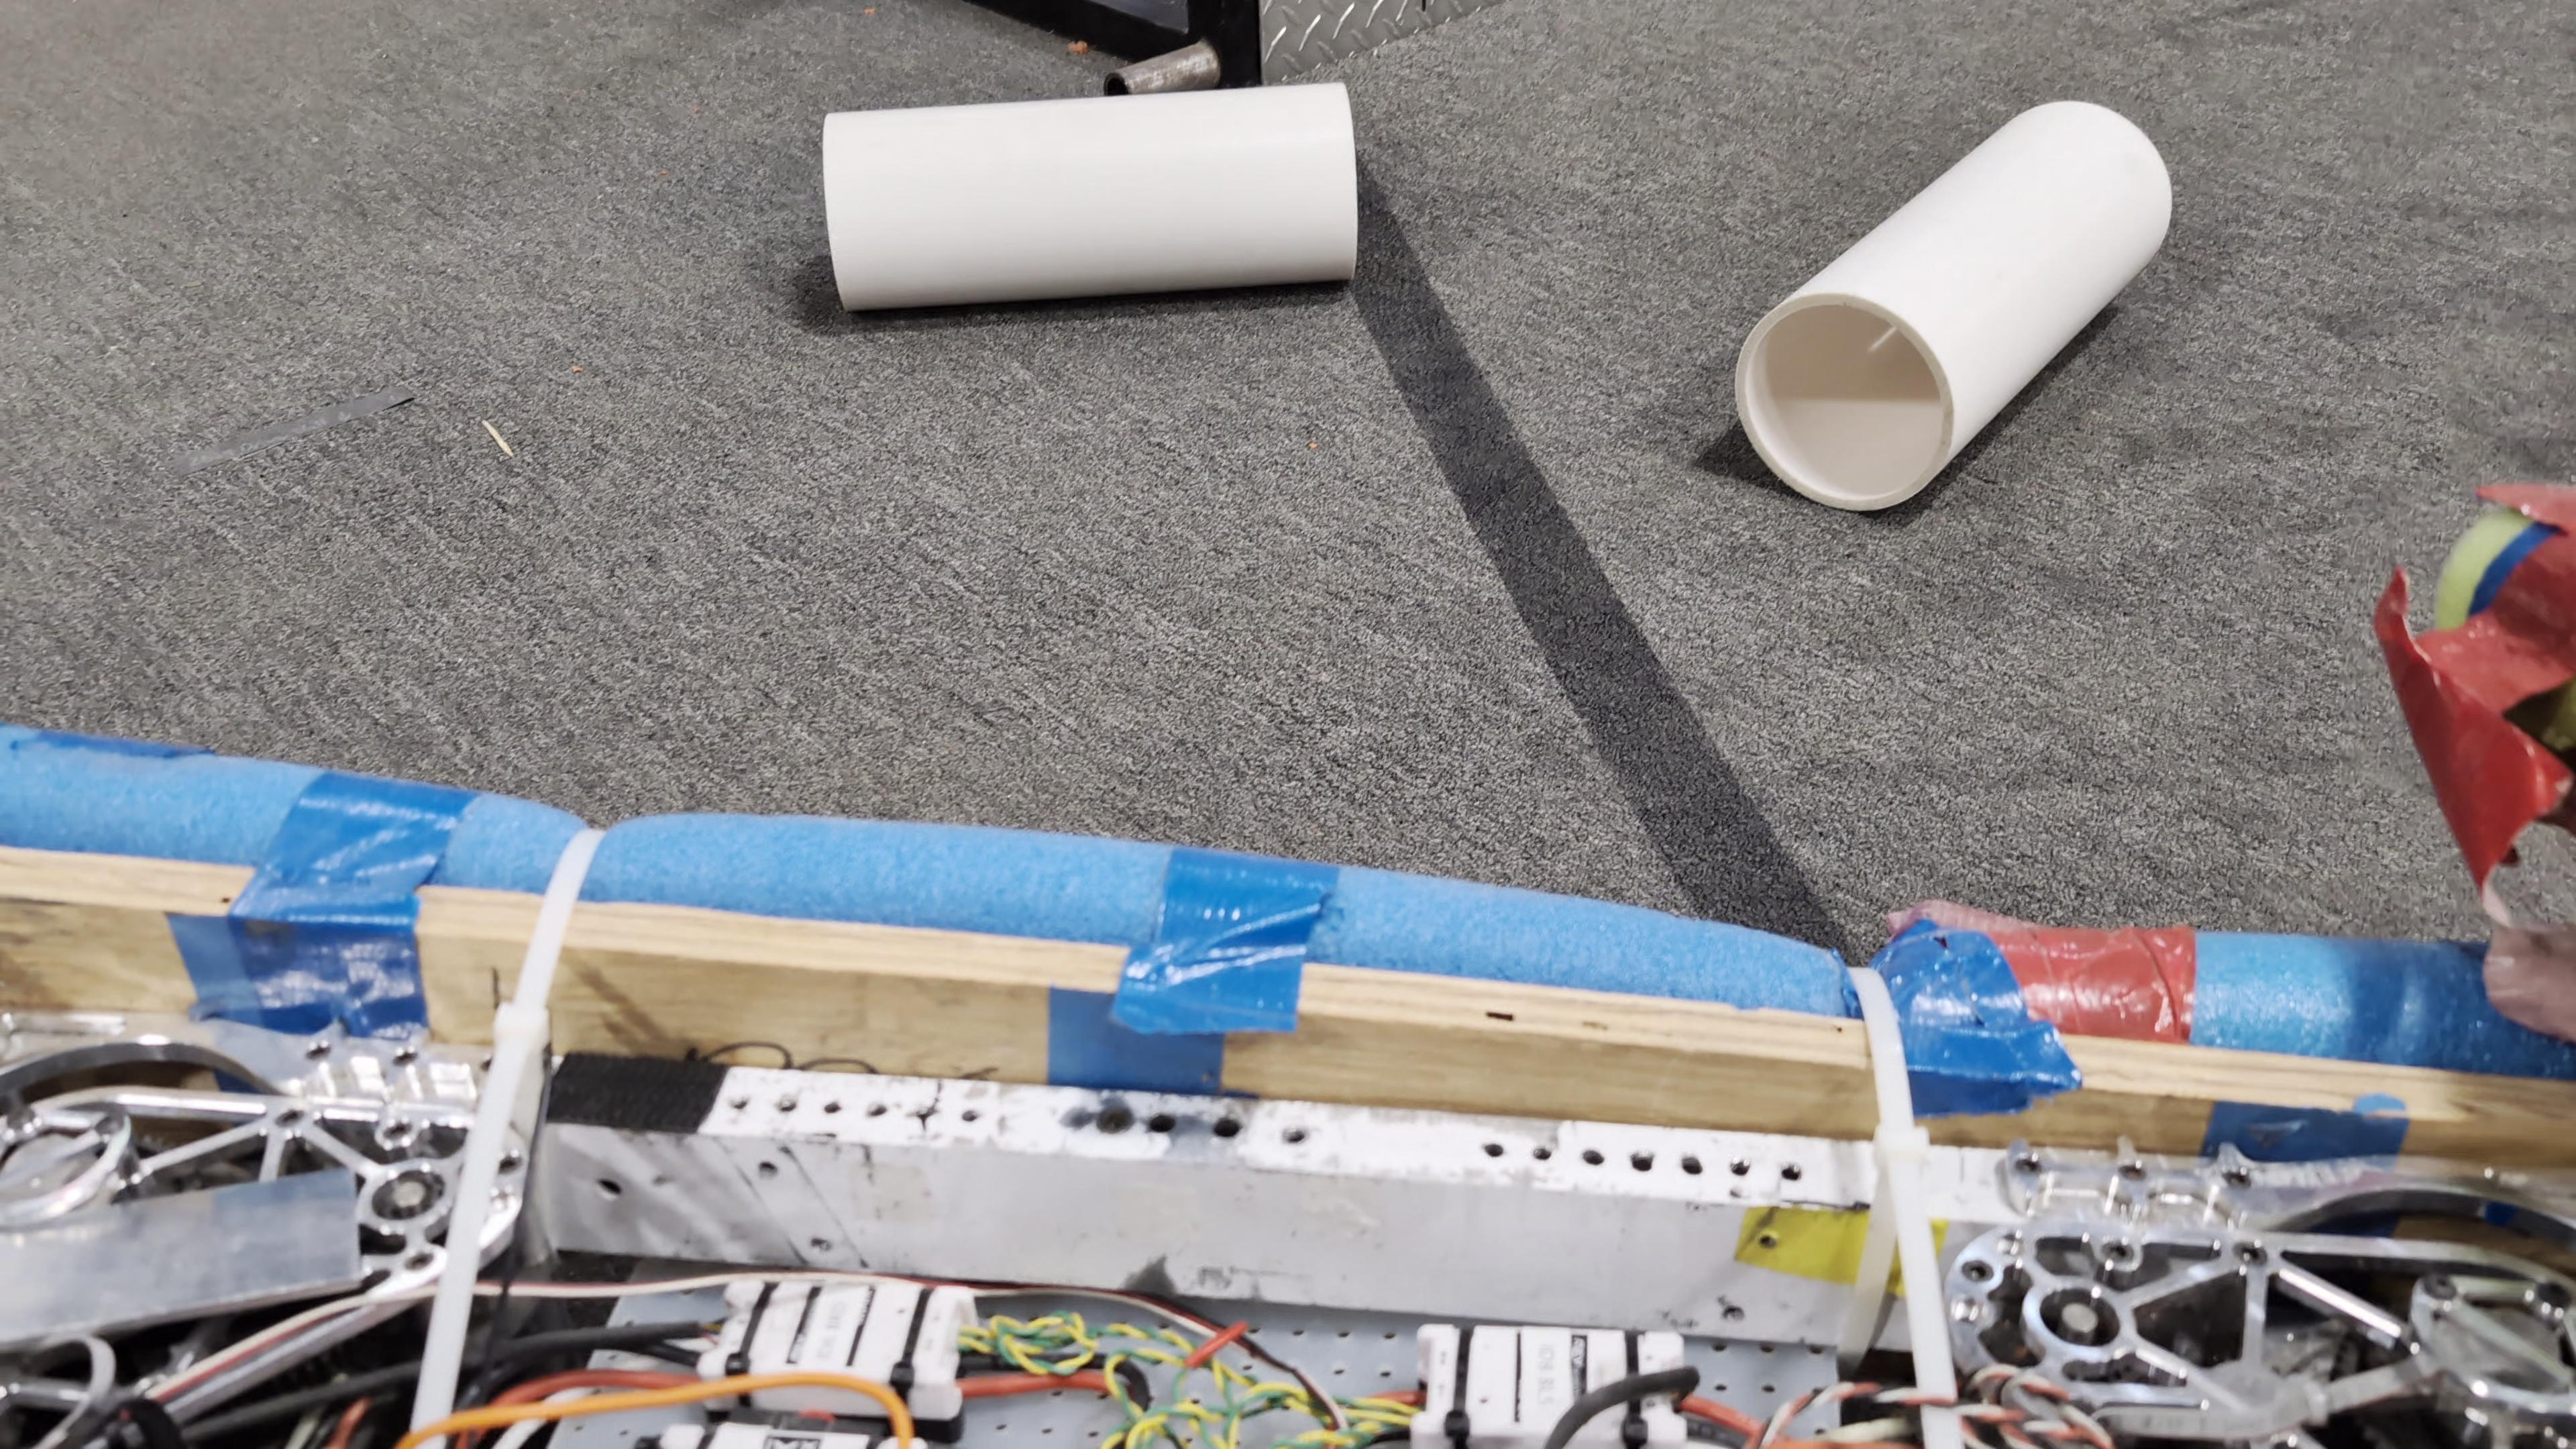coral: (1732, 94, 2174, 511), (821, 78, 1362, 311)
